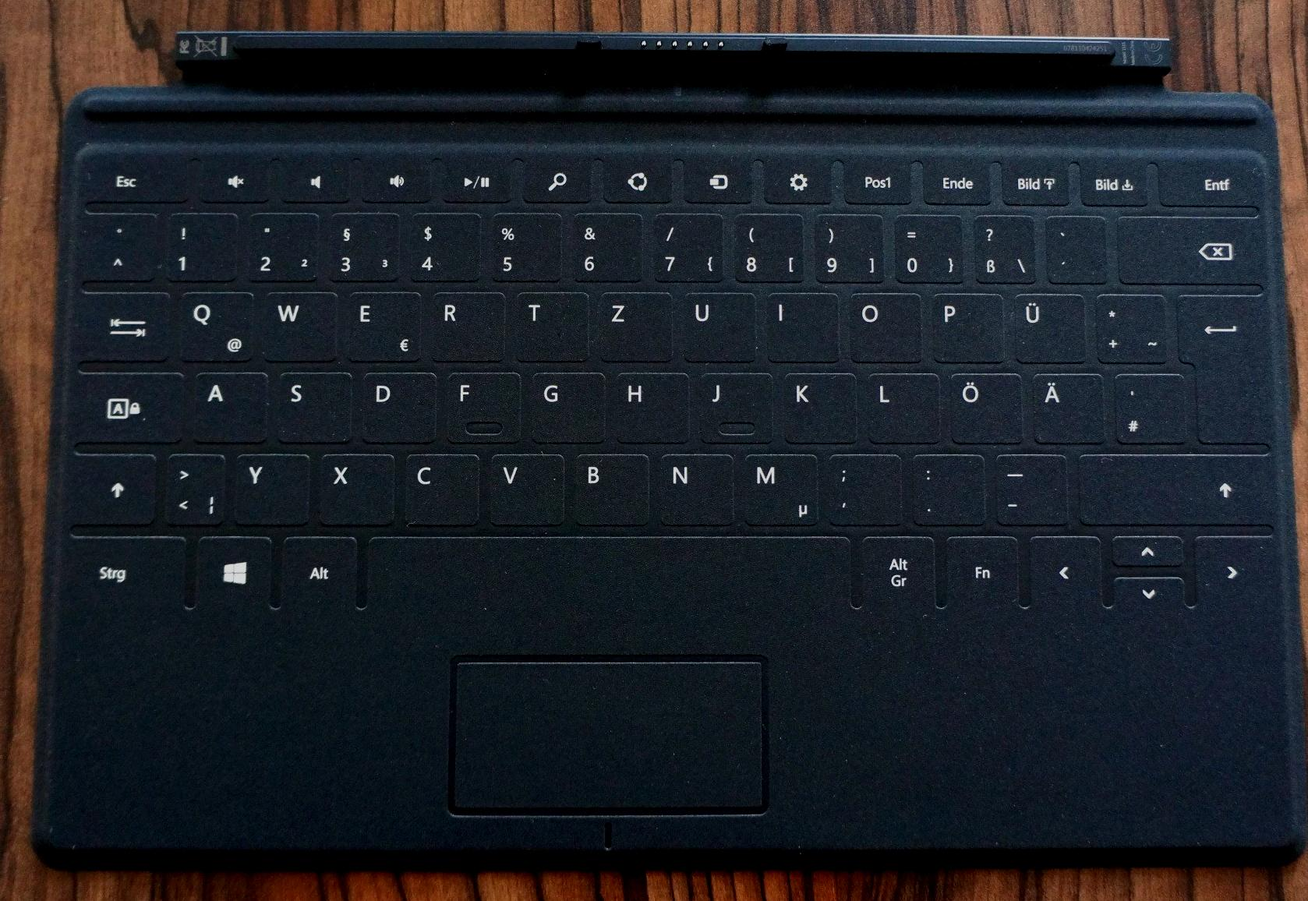0: (890, 210, 963, 284)
1: (165, 210, 238, 283)
2: (243, 208, 320, 283)
3: (325, 208, 399, 282)
4: (408, 210, 481, 283)
5: (487, 208, 560, 281)
6: (567, 209, 642, 281)
7: (651, 210, 723, 283)
8: (731, 209, 802, 283)
9: (811, 210, 882, 284)
a: (190, 367, 267, 442)
accent: (1042, 210, 1106, 282)
ae: (1029, 369, 1105, 444)
alt-left: (276, 532, 357, 606)
altgr-right: (852, 532, 935, 609)
b: (569, 449, 649, 526)
c: (400, 449, 480, 526)
caret: (78, 209, 157, 282)
comma: (825, 449, 902, 526)
d: (359, 369, 437, 445)
del: (1115, 210, 1264, 285)
e: (341, 286, 421, 362)
enter: (1178, 295, 1271, 446)
f: (444, 367, 521, 443)
g: (527, 367, 604, 443)
h: (610, 368, 689, 443)
hash: (1112, 368, 1186, 444)
i: (764, 288, 838, 362)
j: (696, 367, 773, 443)
k: (781, 368, 856, 443)
keyboard: (49, 120, 1283, 625)
l: (863, 368, 939, 443)
less: (161, 449, 224, 527)
m: (738, 448, 818, 528)
minus: (992, 449, 1067, 527)
n: (654, 450, 732, 526)
o: (844, 288, 921, 363)
oe: (946, 368, 1022, 445)
p: (928, 288, 1003, 362)
plus: (1094, 289, 1168, 365)
point: (907, 448, 986, 525)
q: (169, 286, 253, 363)
r: (430, 288, 509, 363)
s: (275, 367, 351, 443)
shift-left: (65, 451, 156, 526)
shift-lock: (69, 372, 186, 447)
shift-right: (1073, 448, 1275, 527)
space: (362, 535, 852, 613)
ss: (970, 210, 1034, 284)
strg-left: (67, 532, 189, 613)
t: (510, 286, 589, 362)
tab: (71, 286, 168, 365)
u: (679, 288, 756, 363)
ue: (1009, 289, 1085, 364)
v: (485, 450, 564, 526)
w: (256, 286, 336, 361)
x: (316, 449, 394, 526)
y: (231, 449, 310, 526)
z: (594, 288, 672, 362)
